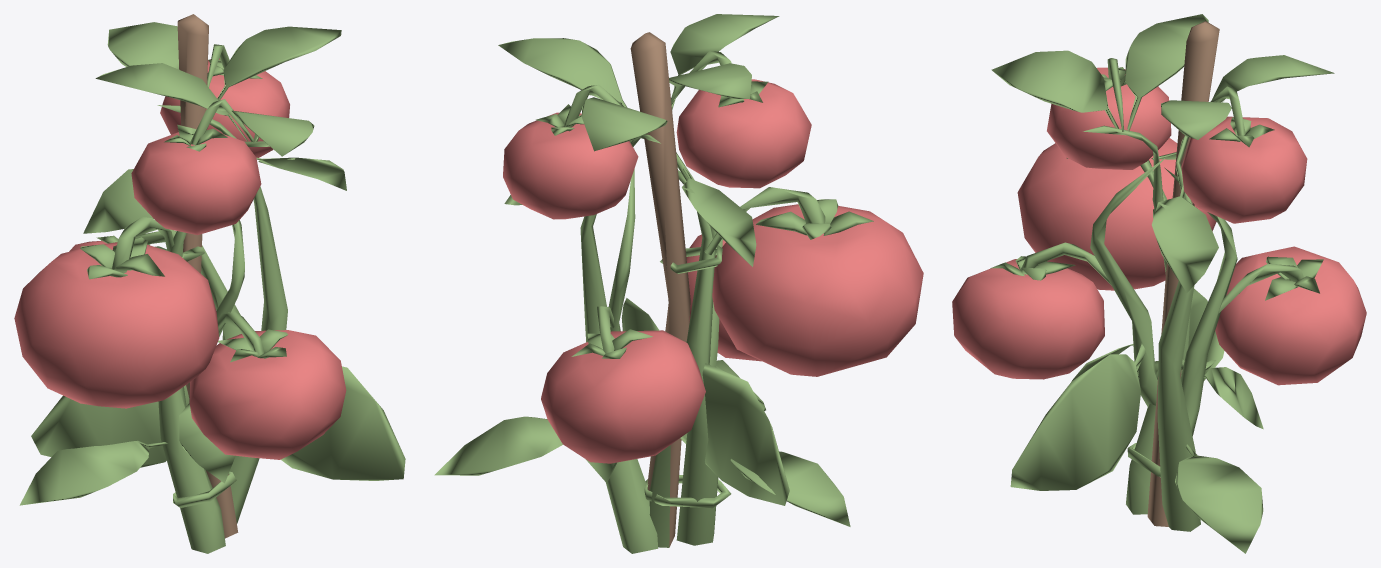
File: TomatoBeds.fbx
3 views of the same model, side by side, from view 1: azimuth 30°, elevation 25°; view 2: azimuth 150°, elevation 25°; view 3: azimuth 270°, elevation 25° (orthographic). The views are drawn at different scales.
Parts seen in each view (by area): view 1: Tomatoes, Green, stick; view 2: Tomatoes, Green, stick; view 3: Green, Tomatoes, stick.
Part boxes in pixels (left/top/right/bottom): Tomatoes: left=14, top=58, right=346, bottom=459; Green: left=19, top=22, right=405, bottom=553; stick: left=177, top=14, right=238, bottom=538; Tomatoes: left=503, top=79, right=923, bottom=463; Green: left=434, top=14, right=873, bottom=553; stick: left=630, top=32, right=690, bottom=547; Green: left=990, top=14, right=1334, bottom=553; Tomatoes: left=952, top=67, right=1366, bottom=385; stick: left=1147, top=21, right=1219, bottom=526.
Size of the model in its own units: 52.05 by 64.18 by 48.7.
